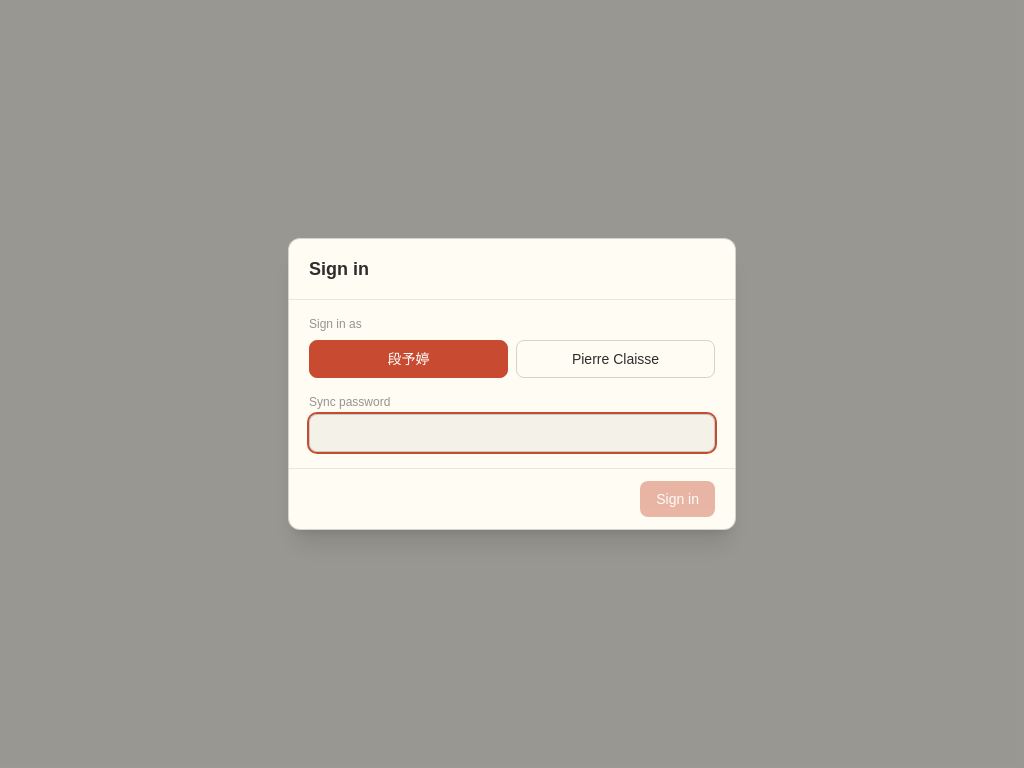
Test: LoginScreen › reveals the Pierre password field when Pierre is selected
The image size is (1024, 768).
Click the button "Pierre Claisse".
click(616, 359)  # box 516,340 -> 715,378
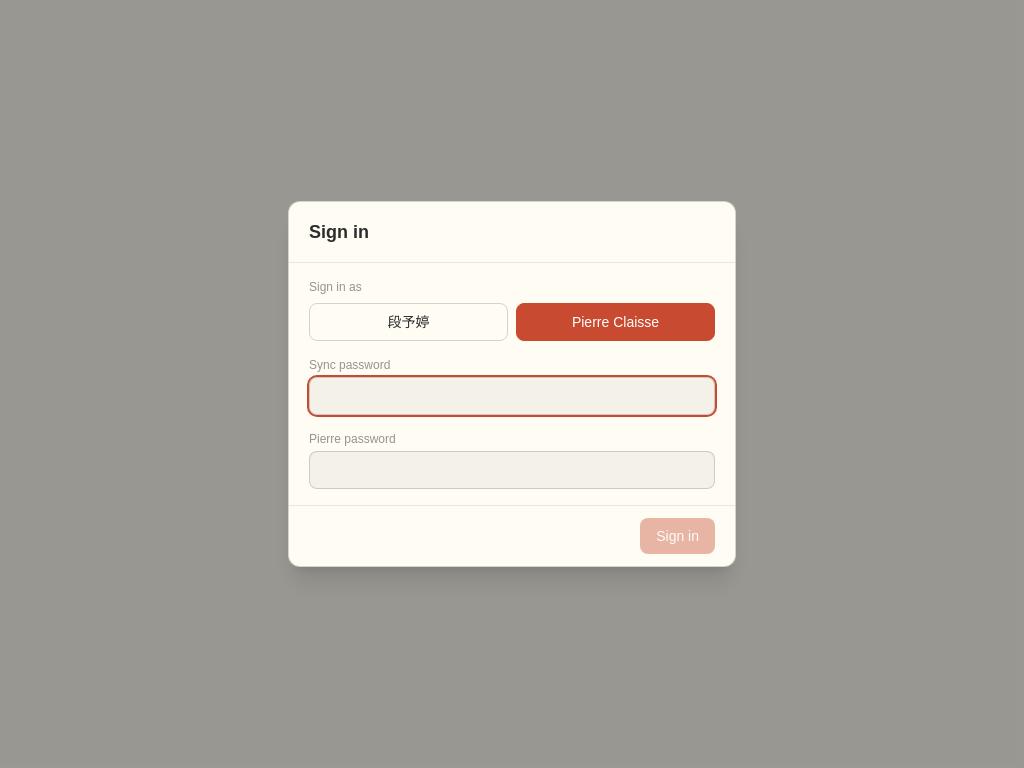
expect the password field labelled "Pierre password" is shown: met, box 309,451 -> 715,489
